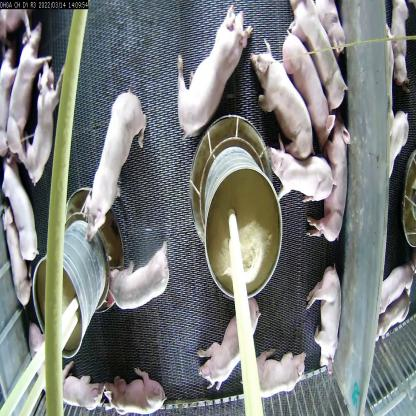Pig: (274, 9, 338, 153), (175, 0, 240, 134), (242, 46, 313, 166), (88, 80, 140, 235), (292, 0, 348, 124), (198, 286, 268, 382), (312, 109, 354, 249), (22, 71, 67, 199), (104, 238, 170, 320), (240, 340, 306, 414), (7, 153, 46, 253), (0, 182, 31, 307), (5, 34, 38, 149), (50, 354, 108, 416), (307, 267, 341, 370), (109, 367, 167, 415), (281, 146, 324, 205)
